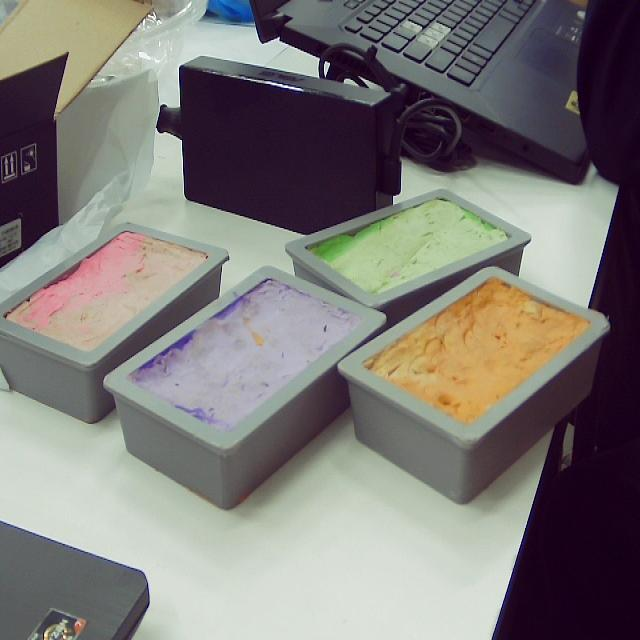block: (105, 262, 390, 512), (337, 271, 612, 513), (0, 220, 231, 422), (282, 185, 532, 311)
